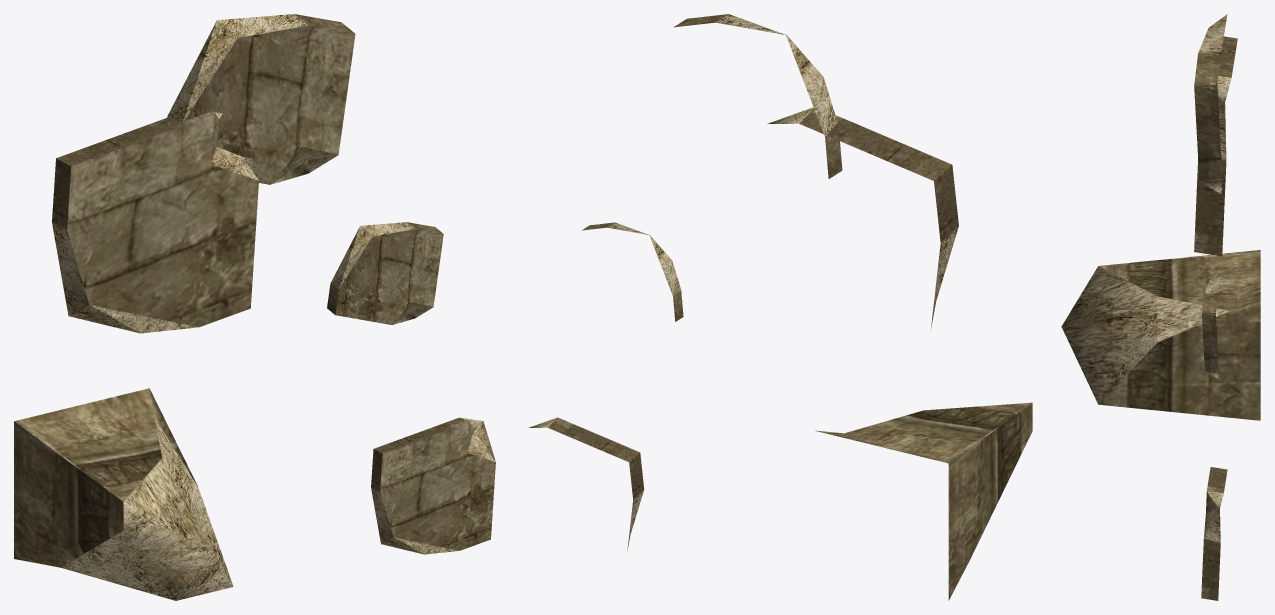
3 views of the same model, side by side, from view 1: azimuth 30°, elevation 25°; view 2: azimuth 150°, elevation 25°; view 3: azimuth 270°, elevation 25° (orthographic). The views are drawn at different scales.
Parts seen in each view (by area): view 1: model_Object29; view 2: model_Object29; view 3: model_Object29.
Boxes of the visible parts, x1,y1,x2,y2 form: model_Object29: (14, 14, 495, 600); model_Object29: (529, 14, 1032, 600); model_Object29: (1061, 14, 1260, 600).
Size of the model in its own units: 3.53 by 4.34 by 1.62.
Materials: 3 (3 with a texture image).
